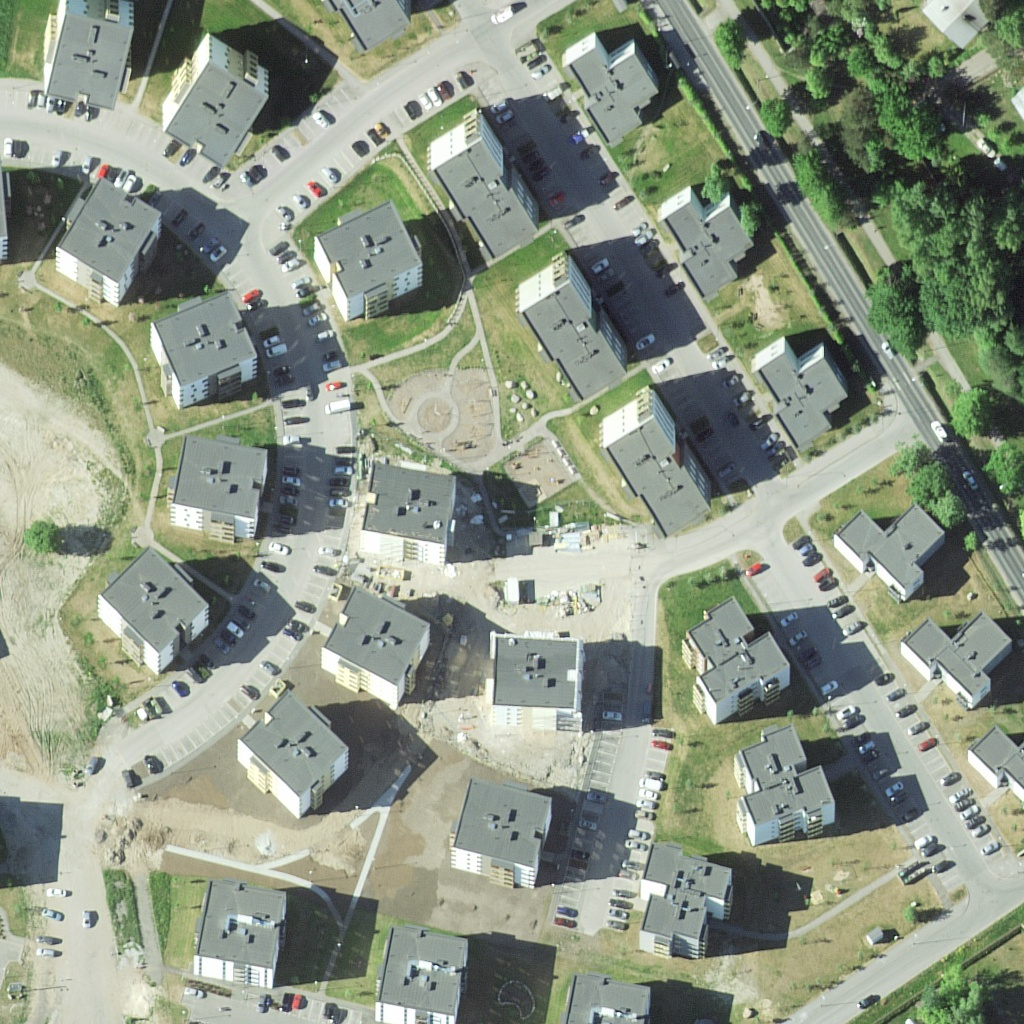building: (598, 390, 714, 542), (427, 106, 538, 264), (516, 253, 624, 406), (227, 692, 355, 817), (95, 542, 211, 676), (635, 829, 747, 966), (164, 32, 275, 166), (304, 193, 417, 318), (681, 598, 789, 724), (144, 289, 262, 403), (320, 585, 432, 705), (452, 776, 563, 893), (560, 29, 667, 150), (748, 329, 854, 450), (52, 186, 155, 308), (727, 726, 836, 839), (168, 430, 270, 549), (485, 630, 594, 736), (889, 611, 1008, 705), (829, 503, 942, 597), (41, 1, 131, 119), (361, 462, 464, 564), (658, 193, 752, 302), (200, 873, 282, 992), (376, 924, 467, 1024), (557, 976, 655, 1024), (334, 1, 415, 52), (970, 718, 1024, 793)
